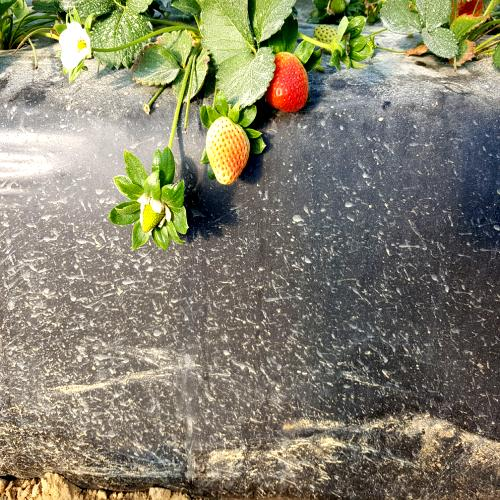partially-ripe: (263, 48, 312, 122), (204, 116, 252, 187)
